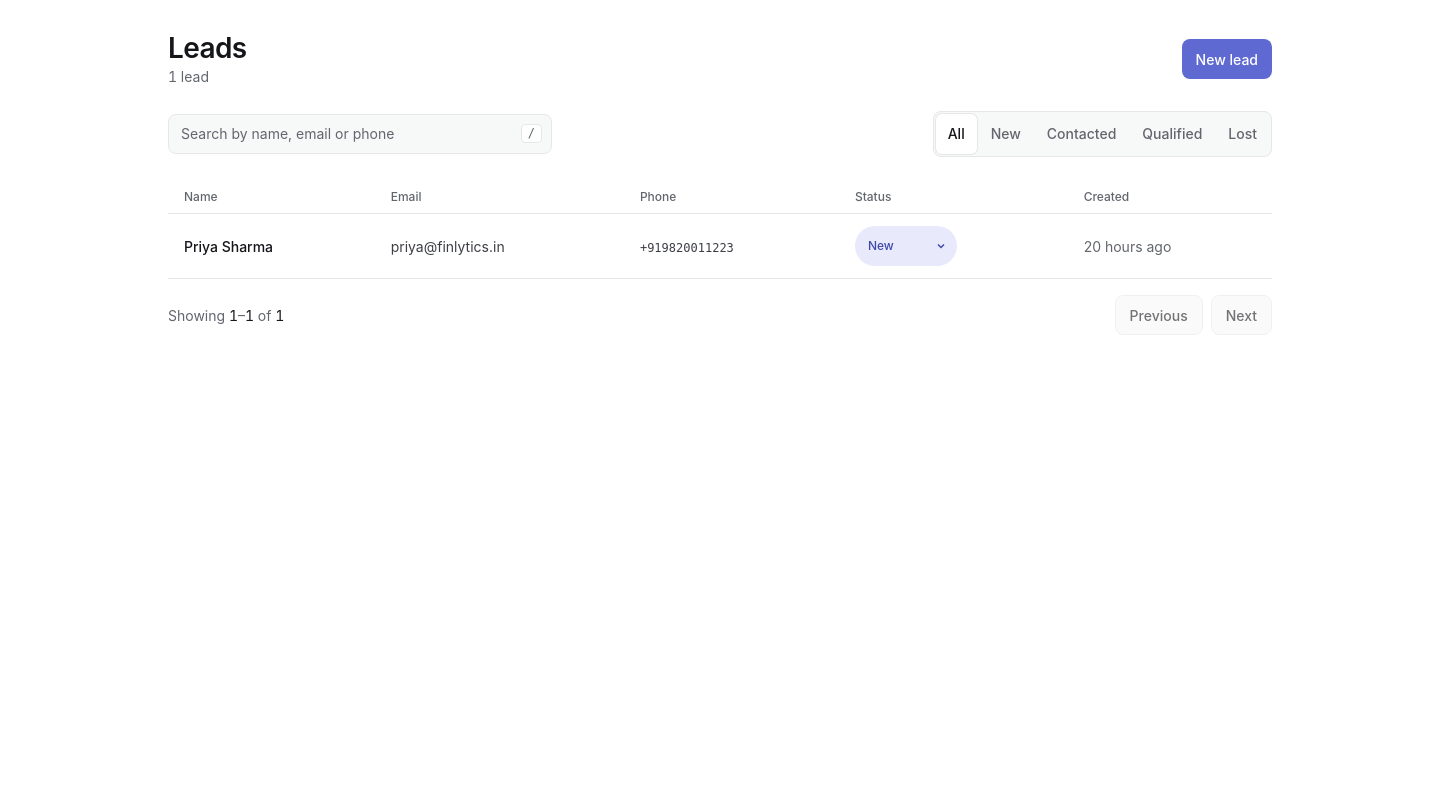
Scenario: App › ignores a create that succeeds after its form was cancelled
Expected: the cell "Priya Sharma" is shown, [168,214,375,279]
Click the button "New lead". click: click(1227, 59)
box: [1182,39,1272,79]
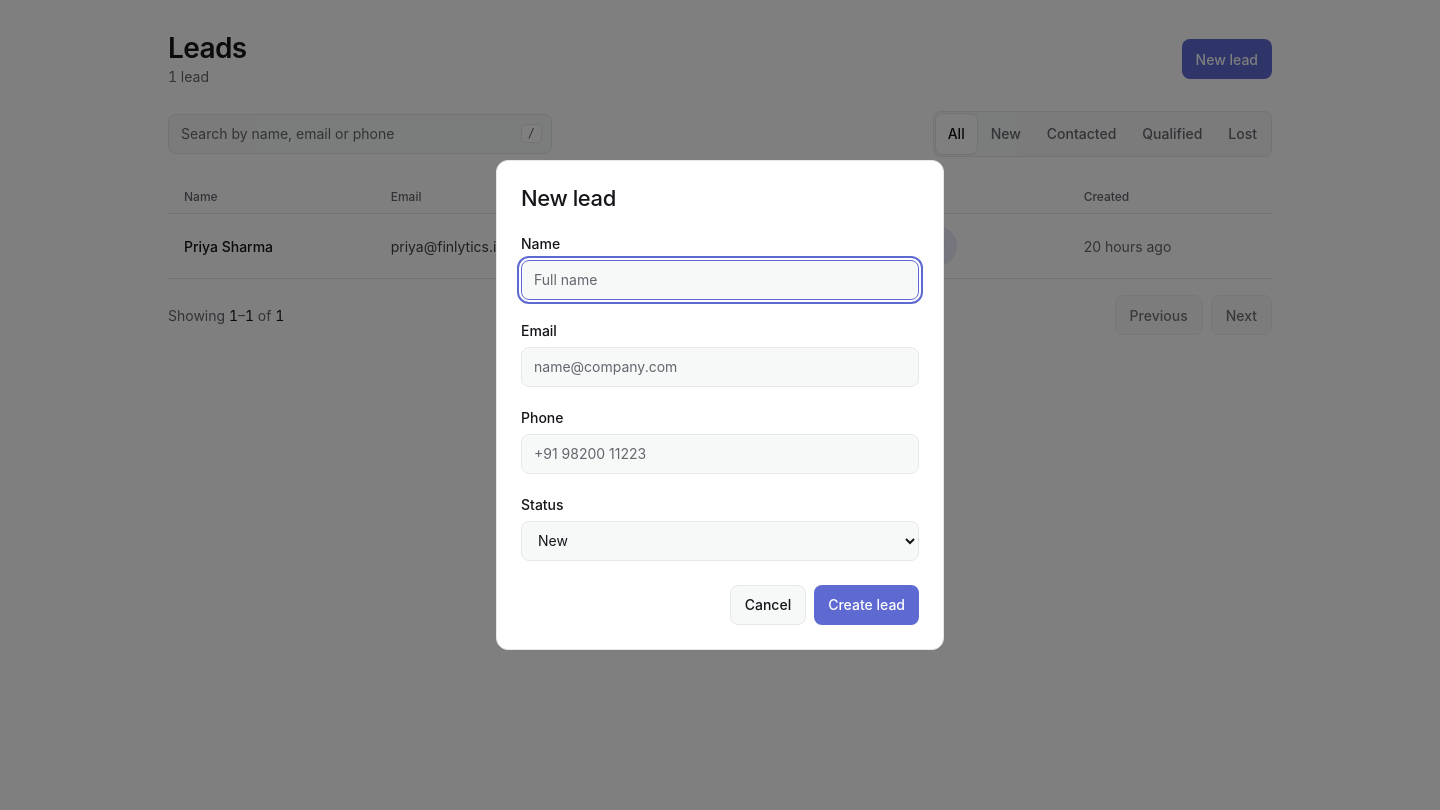
Type "Late Lead" into the field labelled "Name". click: (720, 280)
box: [521,260,919,300]
Type "late@lead.io" into the field labelled "Email". click: (720, 367)
box: [521,347,919,387]
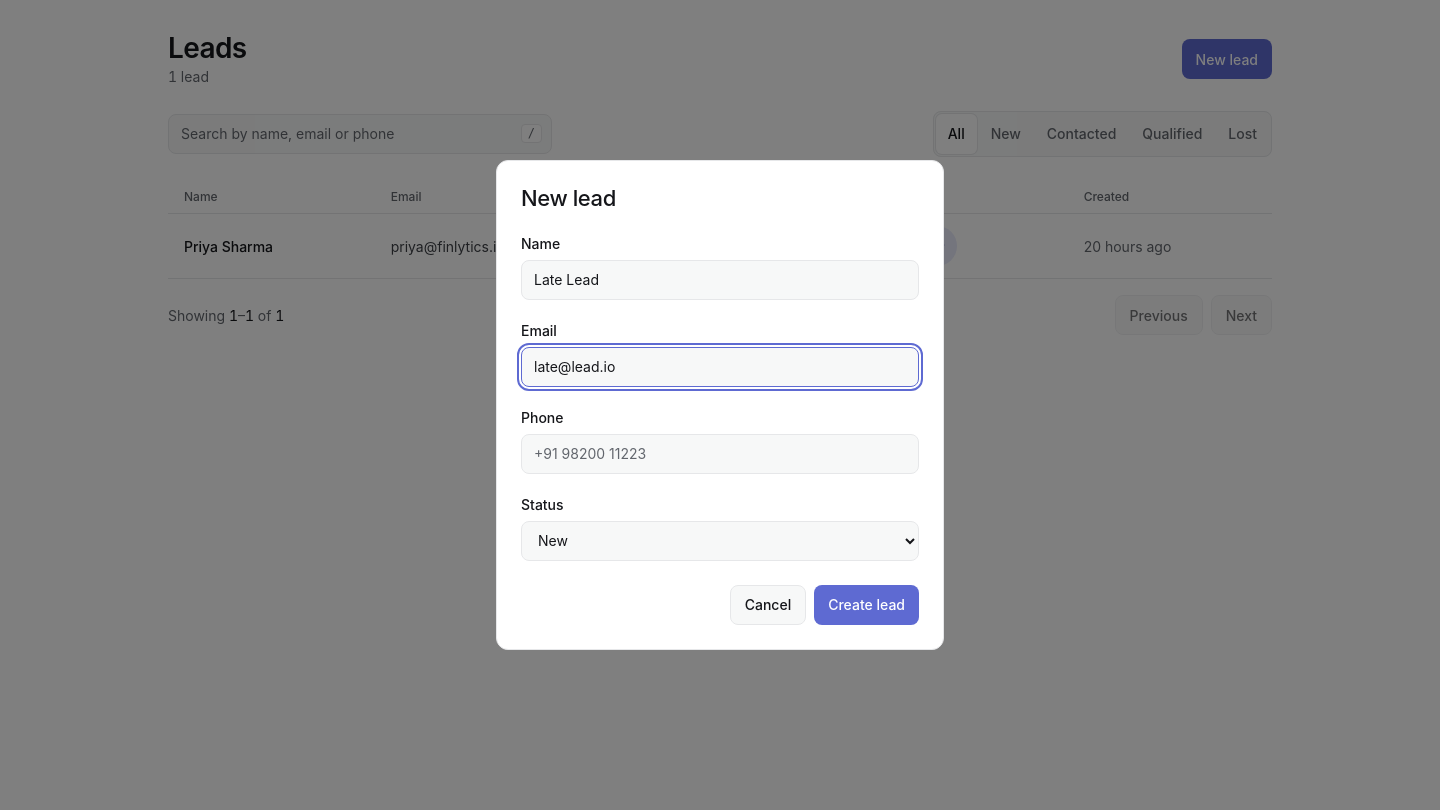
Type "+1 415 555 0100" into the field labelled "Phone". click: (720, 454)
box: [521,434,919,474]
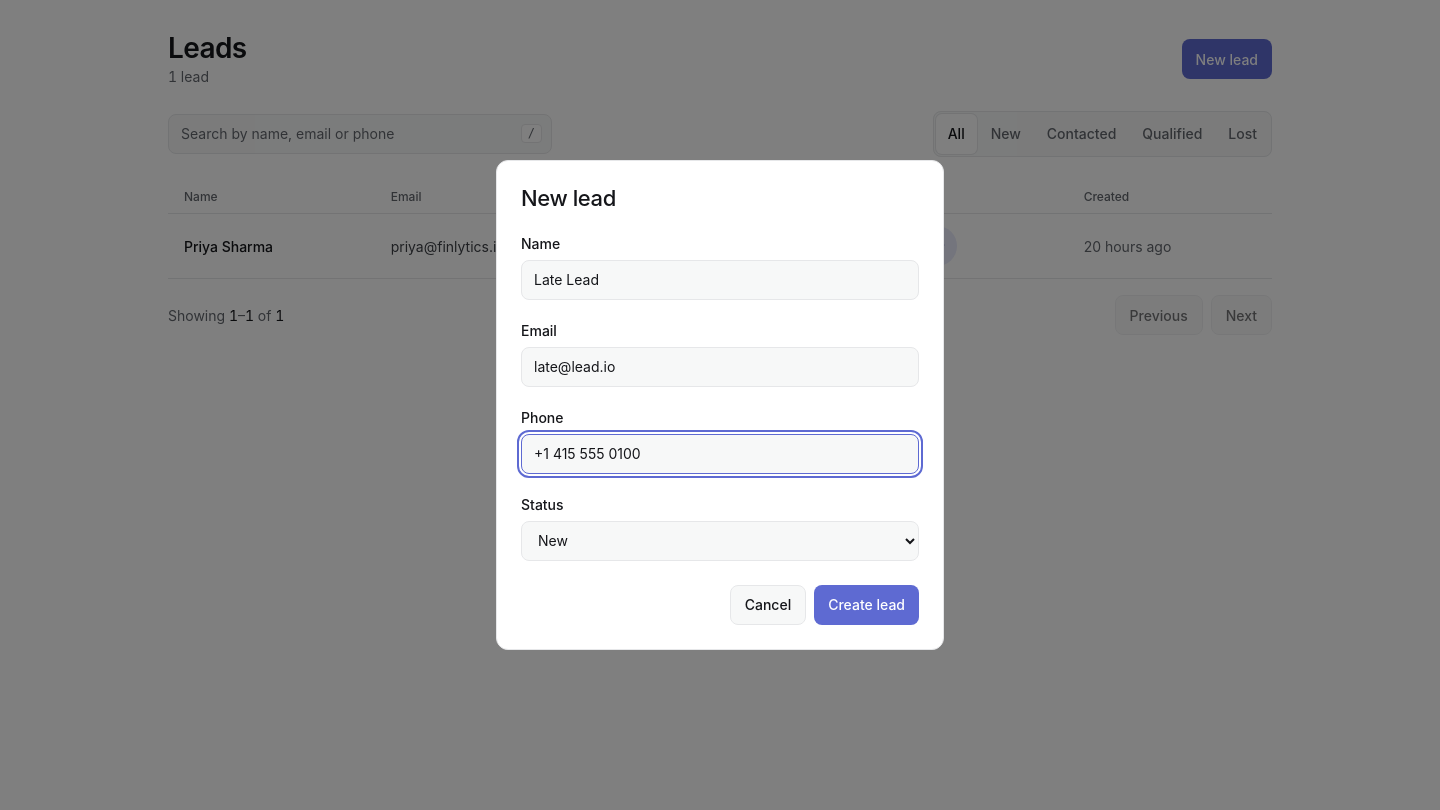
Click the button "Create lead". click: click(867, 605)
box: [814,585,919,625]
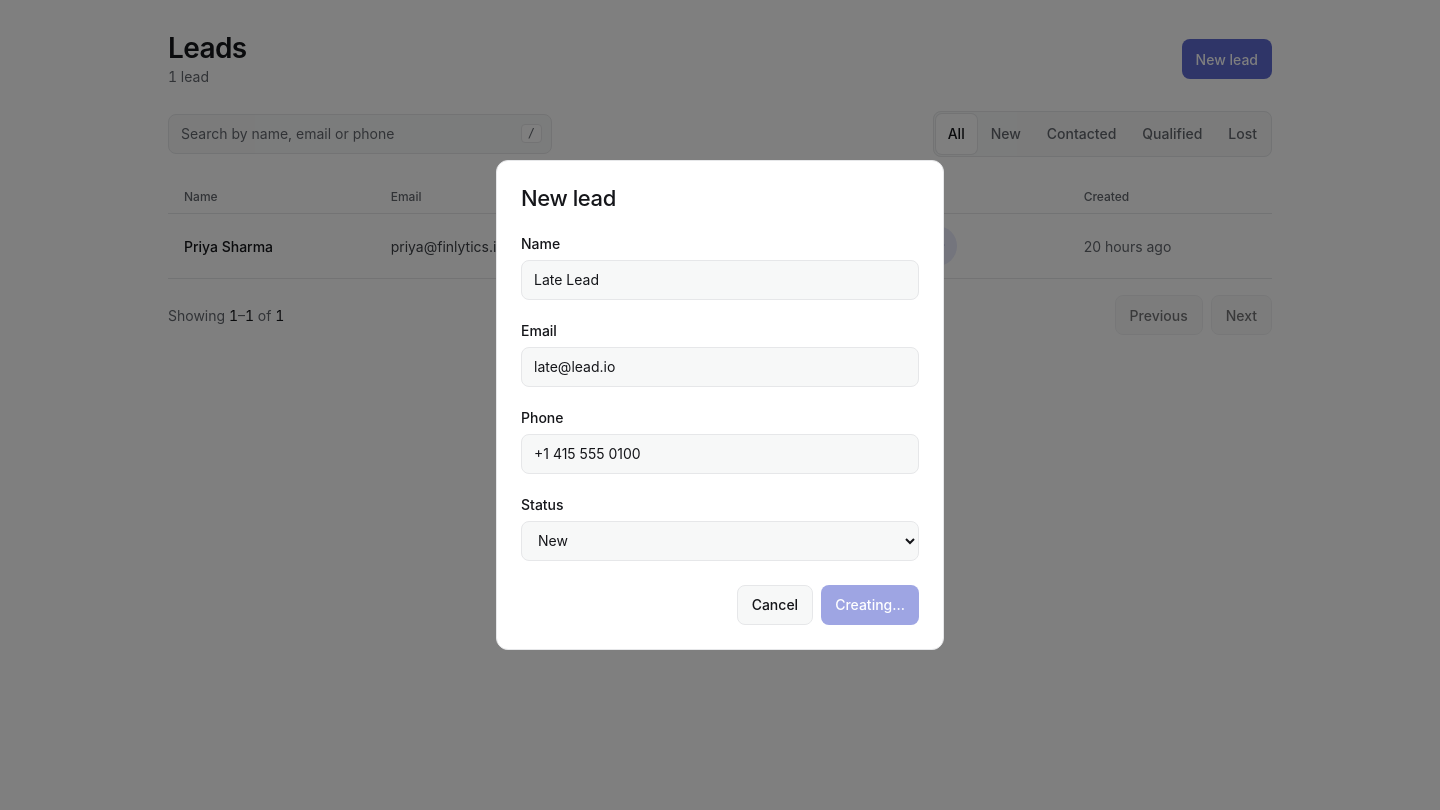
Click the button "Cancel". click: click(775, 605)
box: [737,585,813,625]
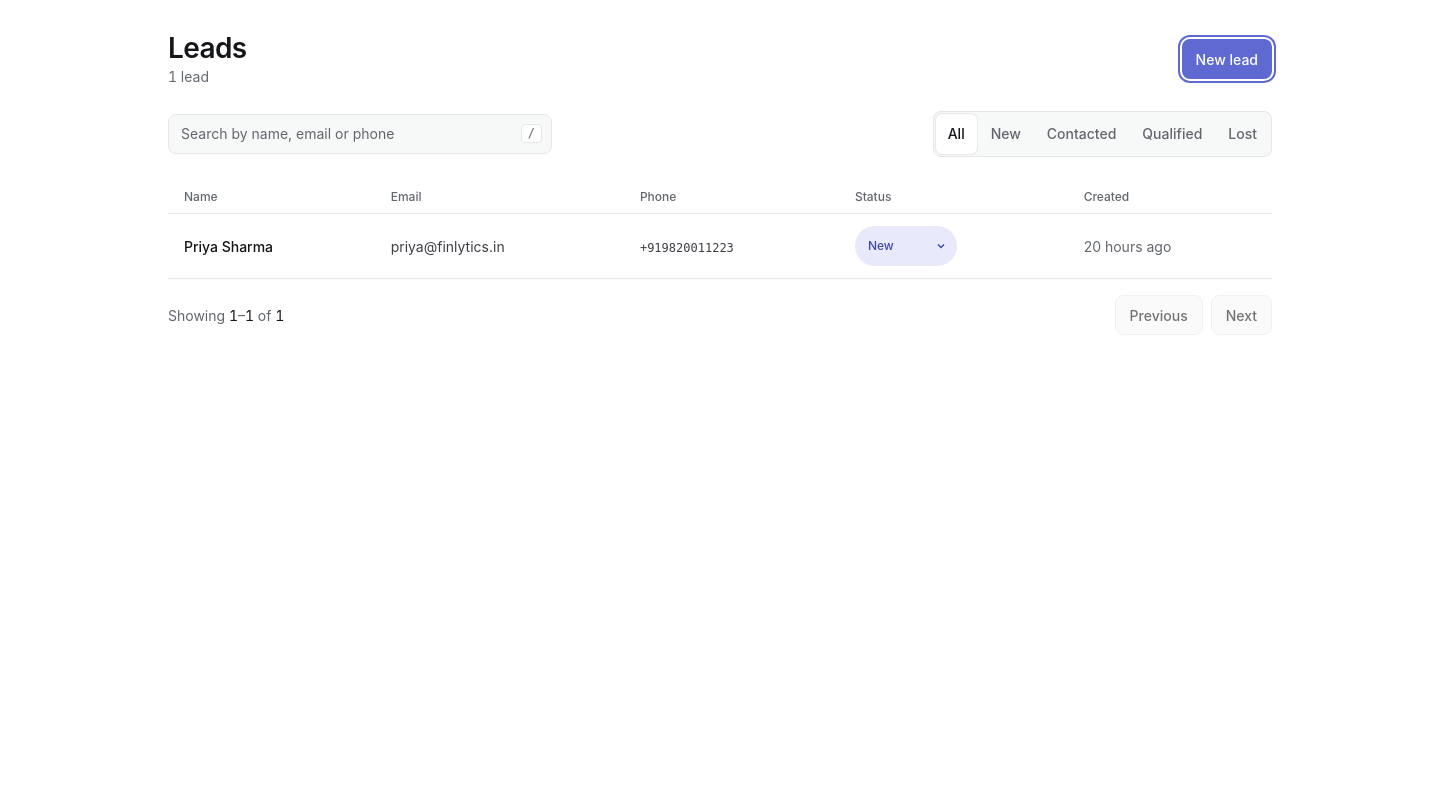
Click the button "New lead". click: click(1227, 59)
box: [1182,39,1272,79]
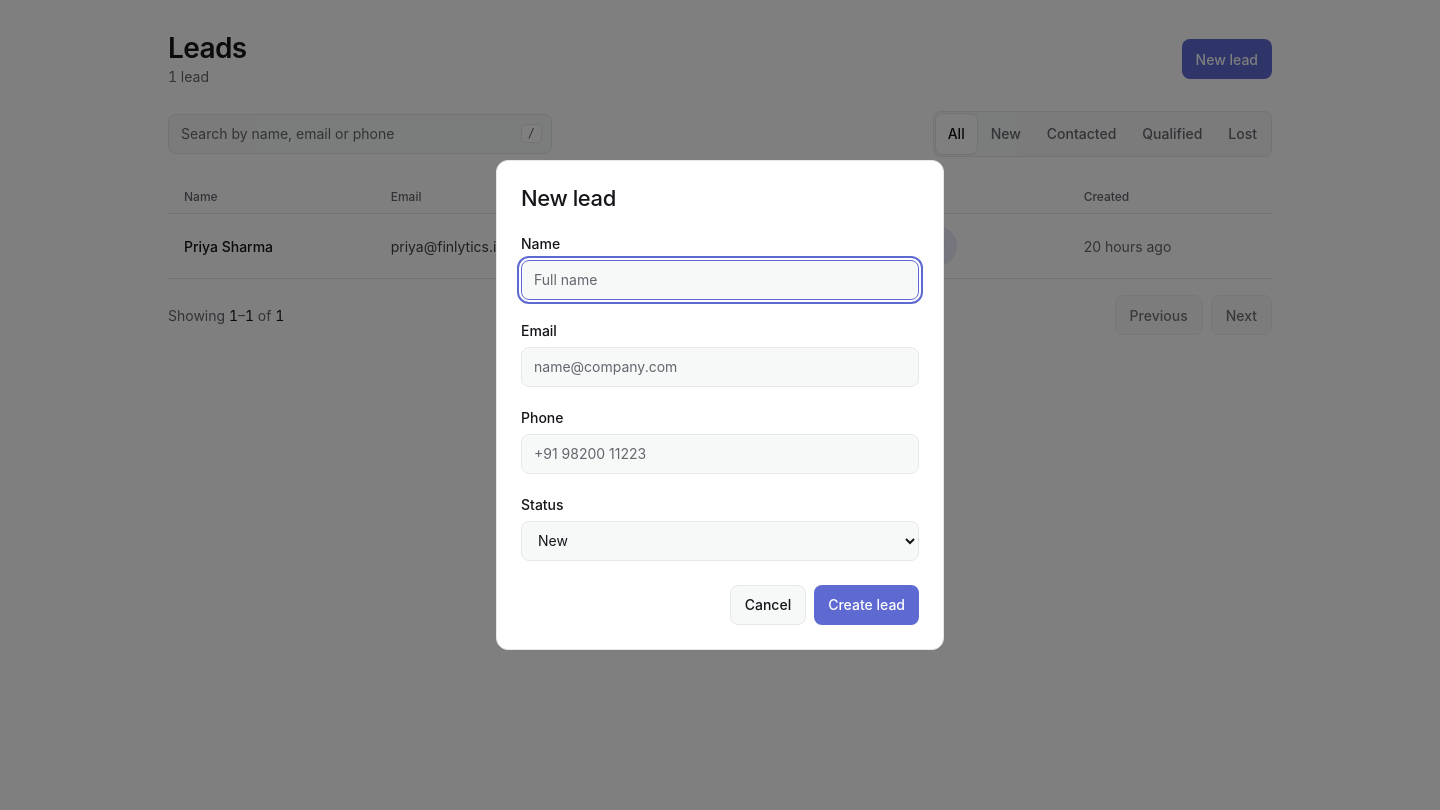
Expected: the dialog is shown, [496,160,944,650]
